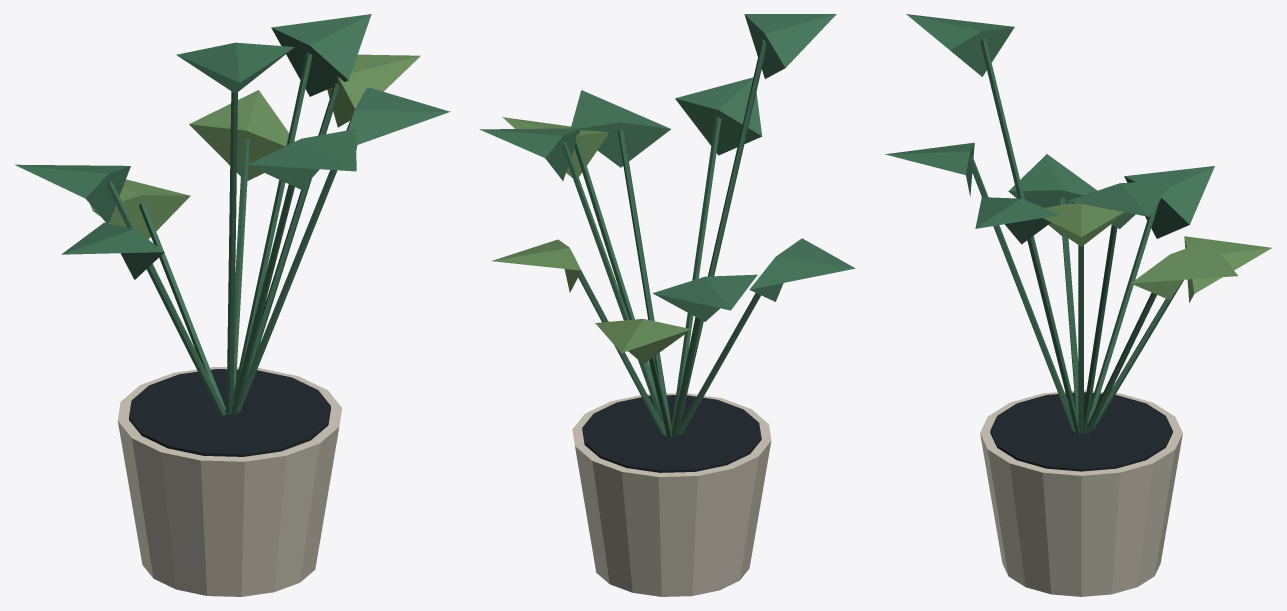
File: commons-leaf-planter.glb
3 renders of one model, left to right at view 1: azimuth 30°, elevation 25°; view 2: azimuth 150°, elevation 25°; view 3: azimuth 270°, elevation 25°, orthographic. The views are drawn at different scales.
Visible parts, largest first — view 1: FURN_Planter.023, FURN_Soil.023, FURN_Leaf.215, FURN_Leaf.210, FURN_Leaf.209, FURN_Leaf.214, FURN_Leaf.212, FURN_Leaf.208, FURN_Leaf.207, FURN_Leaf.211, FURN_Leaf.213, FURN_PlantStem.214 (+8 smaller); view 2: FURN_Planter.023, FURN_Soil.023, FURN_Leaf.209, FURN_Leaf.212, FURN_Leaf.214, FURN_Leaf.211, FURN_Leaf.208, FURN_Leaf.213, FURN_Leaf.215, FURN_PlantStem.214, FURN_PlantStem.209, FURN_Leaf.210 (+8 smaller); view 3: FURN_Planter.023, FURN_Soil.023, FURN_Leaf.208, FURN_Leaf.210, FURN_Leaf.214, FURN_Leaf.211, FURN_Leaf.215, FURN_Leaf.212, FURN_Leaf.207, FURN_PlantStem.209, FURN_Leaf.209, FURN_Leaf.213 (+8 smaller).
Part boxes in pixels (x1,y1,x2,y2): FURN_Planter.023: (117,367,342,596); FURN_Soil.023: (129,369,330,456); FURN_Leaf.215: (271,14,371,96); FURN_Leaf.210: (189,90,294,180); FURN_Leaf.209: (247,129,356,189); FURN_Leaf.214: (176,42,294,93); FURN_Leaf.212: (348,88,450,149); FURN_Leaf.208: (14,164,130,223); FURN_Leaf.207: (327,54,420,127); FURN_Leaf.211: (61,222,164,279); FURN_Leaf.213: (90,179,190,239); FURN_PlantStem.214: (226,91,237,414); FURN_Planter.023: (572,393,771,596); FURN_Soil.023: (582,395,761,472); FURN_Leaf.209: (675,77,762,155); FURN_Leaf.212: (570,90,670,167); FURN_Leaf.214: (744,14,836,78); FURN_Leaf.211: (749,238,855,301); FURN_Leaf.208: (653,274,757,321); FURN_Leaf.213: (595,319,691,363); FURN_Leaf.215: (479,128,580,180); FURN_PlantStem.214: (679,40,766,427); FURN_PlantStem.209: (671,117,721,430); FURN_Leaf.210: (491,239,581,292); FURN_Planter.023: (980,390,1182,596); FURN_Soil.023: (990,392,1172,471); FURN_Leaf.208: (1124,166,1214,238); FURN_Leaf.210: (1131,240,1237,299); FURN_Leaf.214: (906,14,1014,76); FURN_Leaf.211: (1008,154,1097,235); FURN_Leaf.215: (1067,180,1172,228); FURN_Leaf.212: (975,197,1058,244); FURN_Leaf.207: (1043,203,1125,246); FURN_PlantStem.209: (970,157,1075,431); FURN_Leaf.209: (885,142,974,196); FURN_Leaf.213: (1184,236,1271,302).
Bounding box in the file's own units: 1.2 × 1.72 × 1.19.
